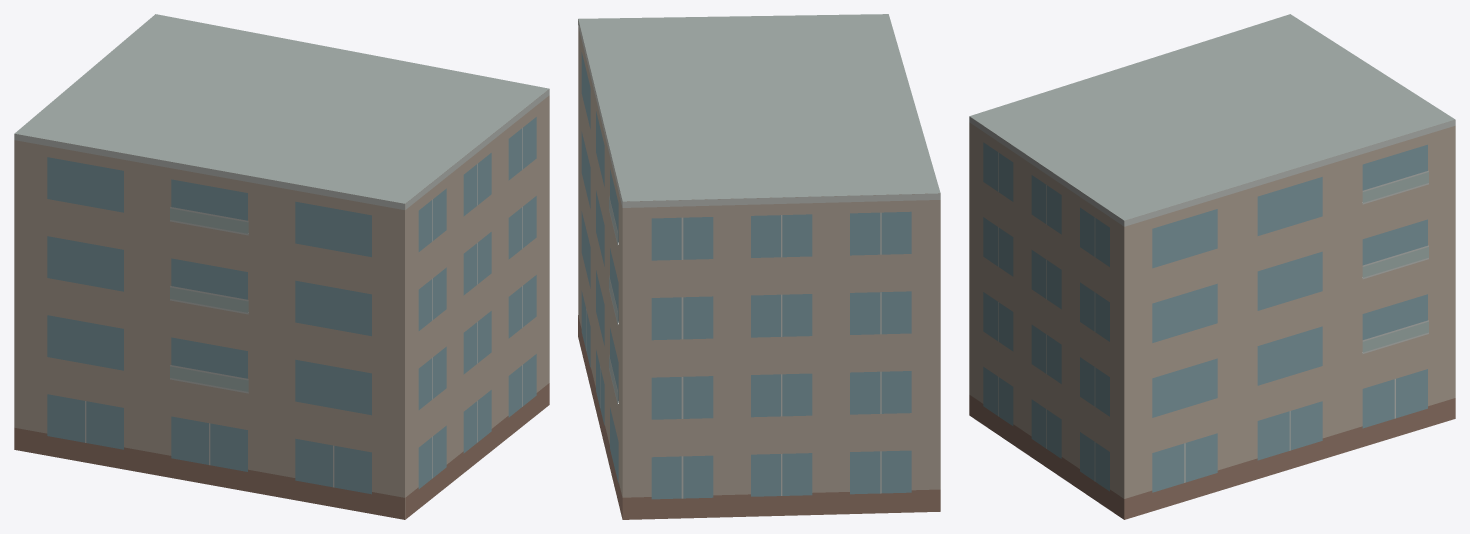
File: survey-upis-32749996.glb
3 renders of one model, left to right at view 1: azimuth 30°, elevation 25°; view 2: azimuth 150°, elevation 25°; view 3: azimuth 270°, elevation 25°, orthographic. The views are drawn at different scales.
Visible parts, largest first — view 1: survey-upis-32749996.tmp; view 2: survey-upis-32749996.tmp; view 3: survey-upis-32749996.tmp.
Boxes of the visible parts, x1,y1,x2,y2 form: survey-upis-32749996.tmp: [14, 14, 549, 519]; survey-upis-32749996.tmp: [578, 14, 940, 519]; survey-upis-32749996.tmp: [969, 14, 1455, 519].
Bounding box in the file's own units: 17.79 × 12 × 17.68.
